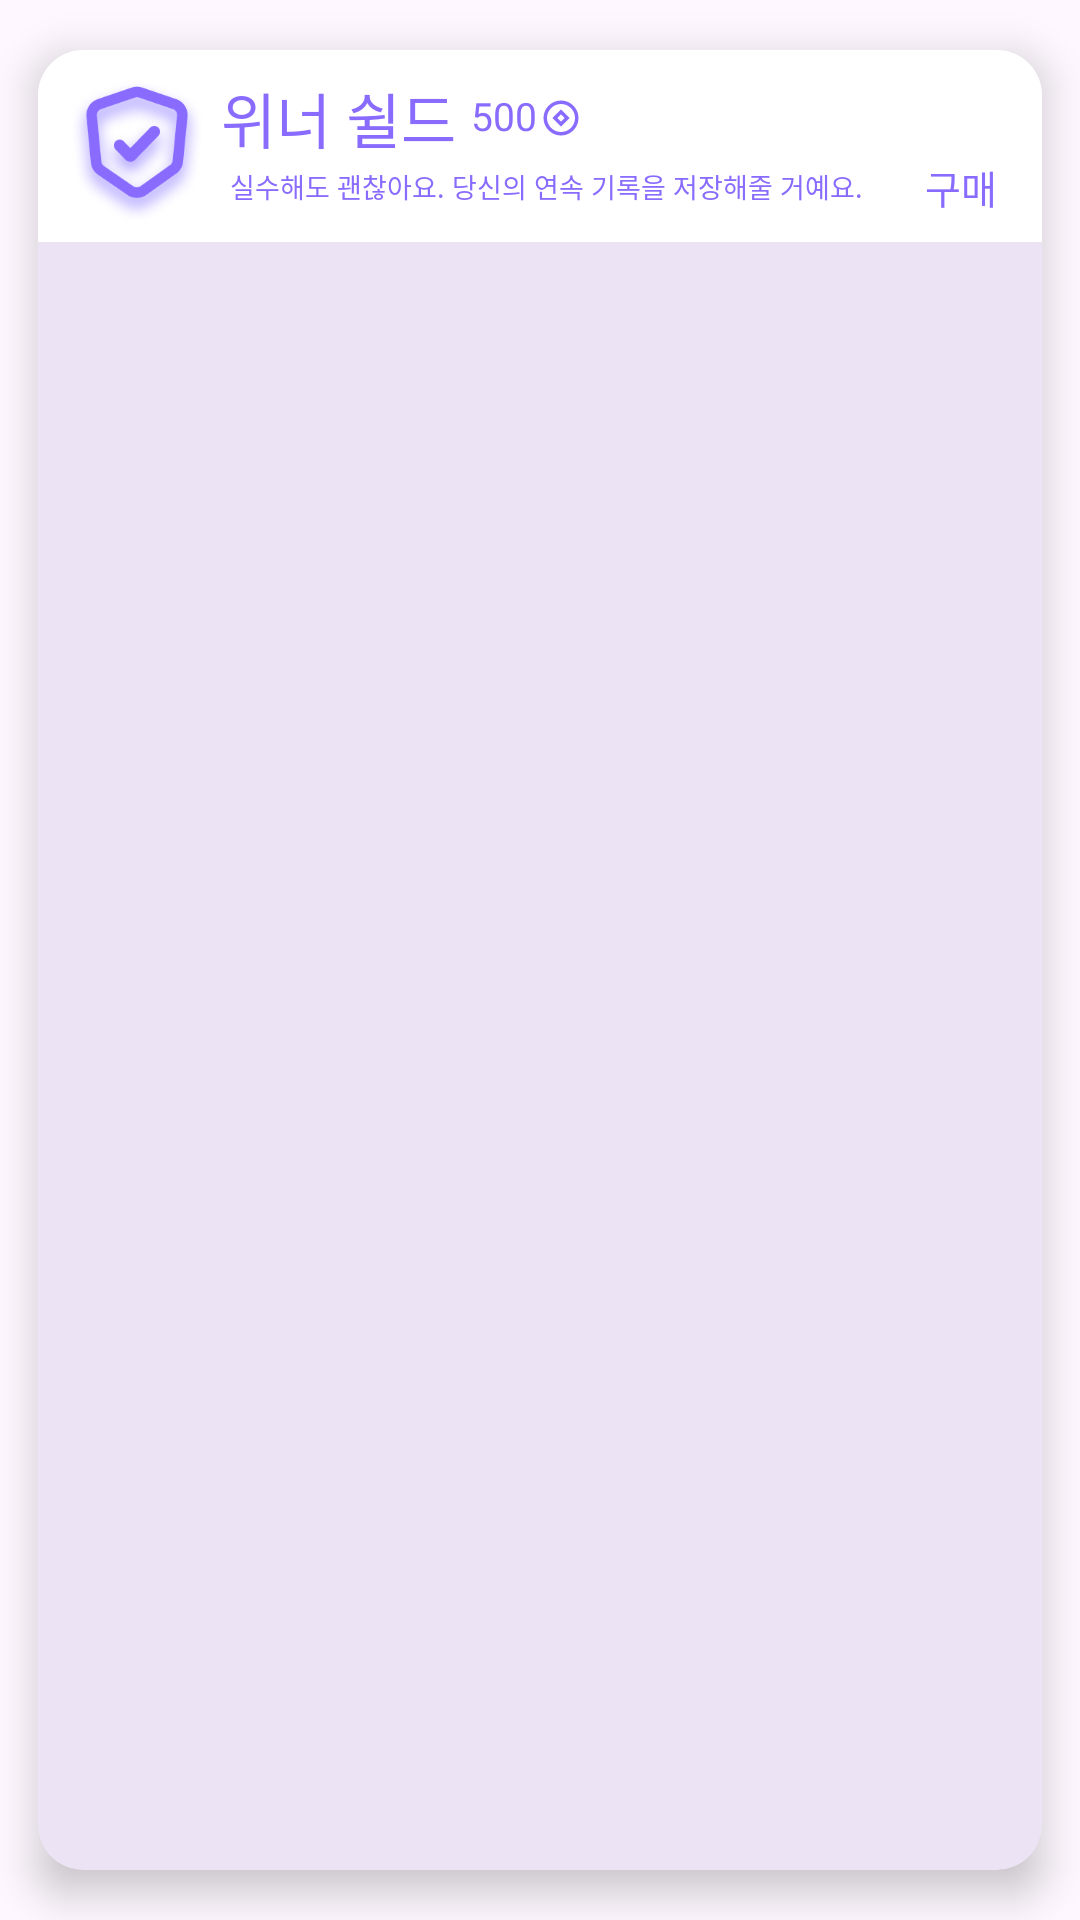

Icons on this 1080 × 1920 Android screen, each with the point to tap as point (x, y):
shield check: point (137, 148)
